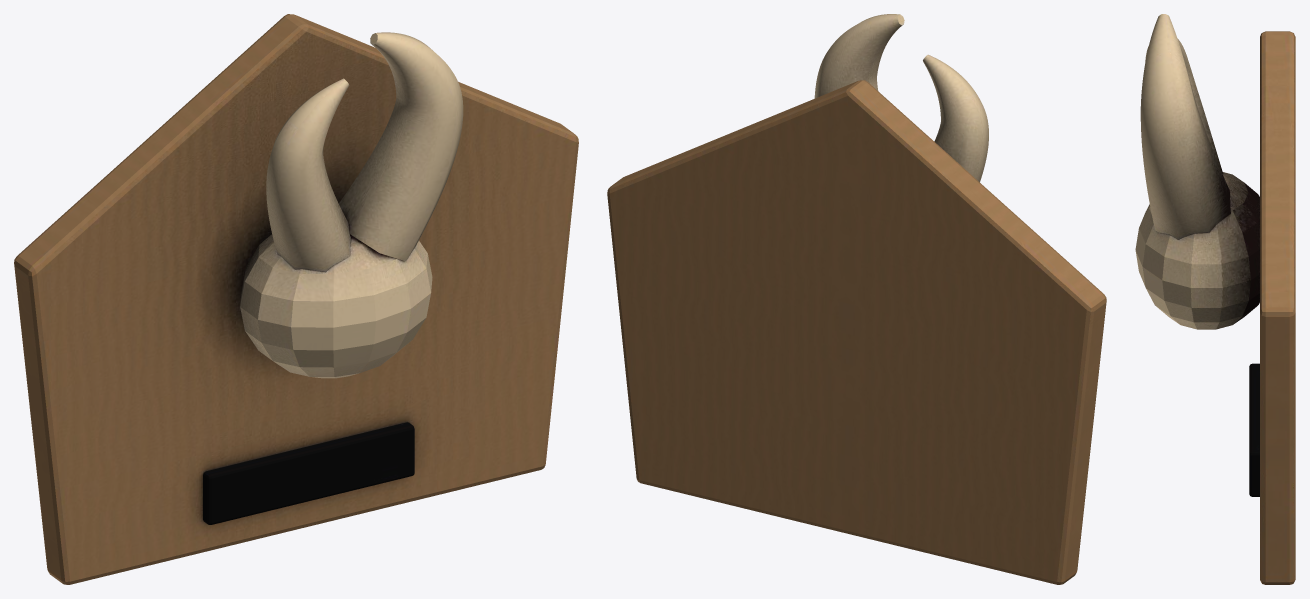
File: deco_trofeu_chefe.glb
The picture shows the model from 3 angles, left to right: view 1: azimuth 30°, elevation 25°; view 2: azimuth 150°, elevation 25°; view 3: azimuth 270°, elevation 25°; orthographic projection. The views are drawn at different scales.
Parts seen in each view (by area): view 1: deco_trofeu_chefe_tronco; view 2: deco_trofeu_chefe_tronco; view 3: deco_trofeu_chefe_tronco.
Part boxes in pixels (left/top/right/bottom): deco_trofeu_chefe_tronco: left=14, top=14, right=578, bottom=584; deco_trofeu_chefe_tronco: left=607, top=14, right=1106, bottom=584; deco_trofeu_chefe_tronco: left=1135, top=14, right=1295, bottom=584.
Bounding box in the file's own units: 0.7982 × 0.7368 × 0.225.
1 material, 1 textured.
